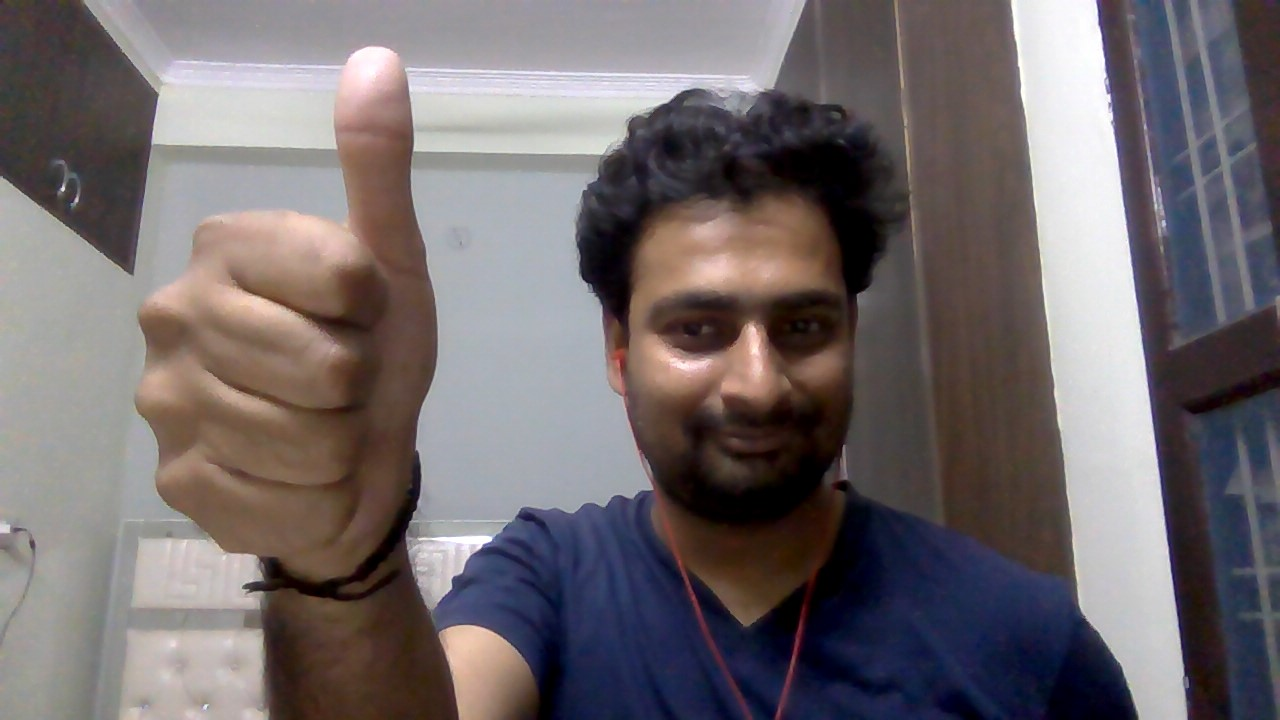Save: (125, 31, 491, 569)
